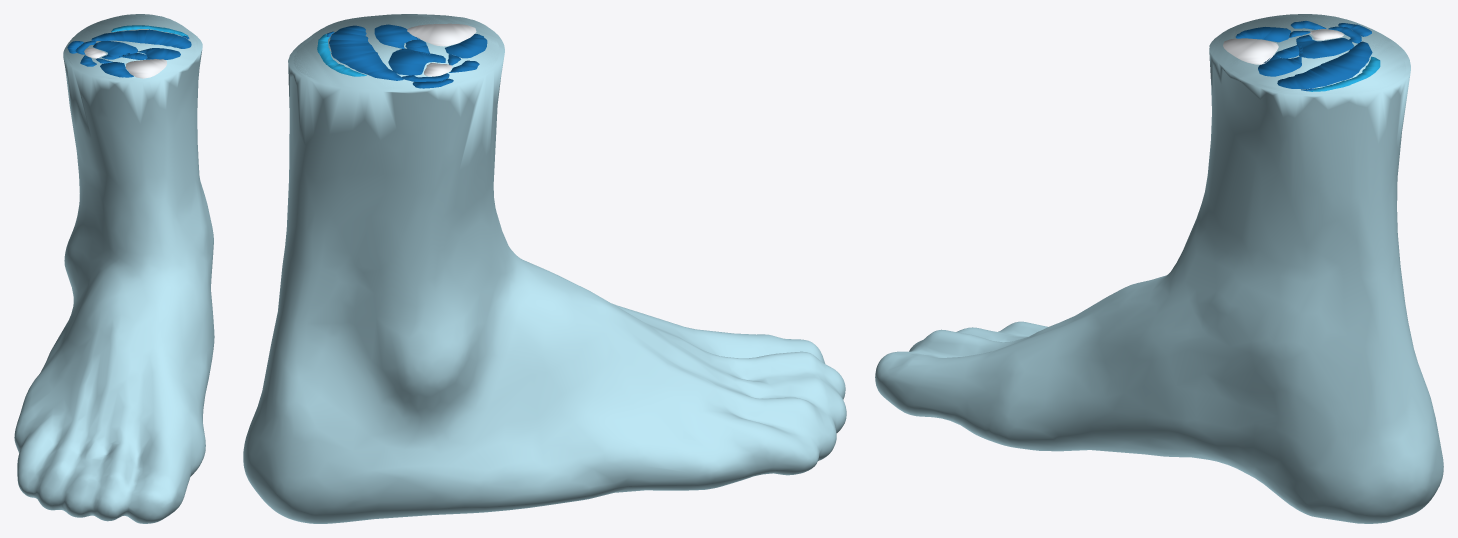
Rendered from foot-proto.full.glb.
3 renders of one model, left to right at view 1: azimuth 30°, elevation 25°; view 2: azimuth 150°, elevation 25°; view 3: azimuth 270°, elevation 25°, orthographic. The views are drawn at different scales.
Parts seen in each view (by area): view 1: skin.001, soleus, tibia, flexor_hallucis_longus, flexor_digitorum_longus, tibialis_anterior, calcaneal_tendon; view 2: skin.001, soleus, tibia, flexor_hallucis_longus, flexor_digitorum_longus; view 3: skin.001, soleus, tibia, flexor_hallucis_longus, flexor_digitorum_longus.
Part boxes in pixels (left/top/right/bottom): skin.001: left=14, top=14, right=214, bottom=523; soleus: left=91, top=29, right=191, bottom=48; tibia: left=125, top=59, right=166, bottom=78; flexor_hallucis_longus: left=93, top=41, right=137, bottom=59; flexor_digitorum_longus: left=137, top=48, right=180, bottom=59; tibialis_anterior: left=100, top=62, right=133, bottom=77; calcaneal_tendon: left=111, top=25, right=188, bottom=36; skin.001: left=243, top=14, right=846, bottom=523; soleus: left=329, top=25, right=403, bottom=80; tibia: left=407, top=23, right=476, bottom=46; flexor_hallucis_longus: left=388, top=48, right=445, bottom=75; flexor_digitorum_longus: left=374, top=24, right=420, bottom=48; skin.001: left=875, top=14, right=1443, bottom=523; soleus: left=1277, top=41, right=1372, bottom=89; tibia: left=1223, top=38, right=1278, bottom=64; flexor_hallucis_longus: left=1296, top=35, right=1353, bottom=58; flexor_digitorum_longus: left=1258, top=55, right=1301, bottom=76.
Size of the model in its own units: 0.1747 by 0.1912 by 0.2237.
